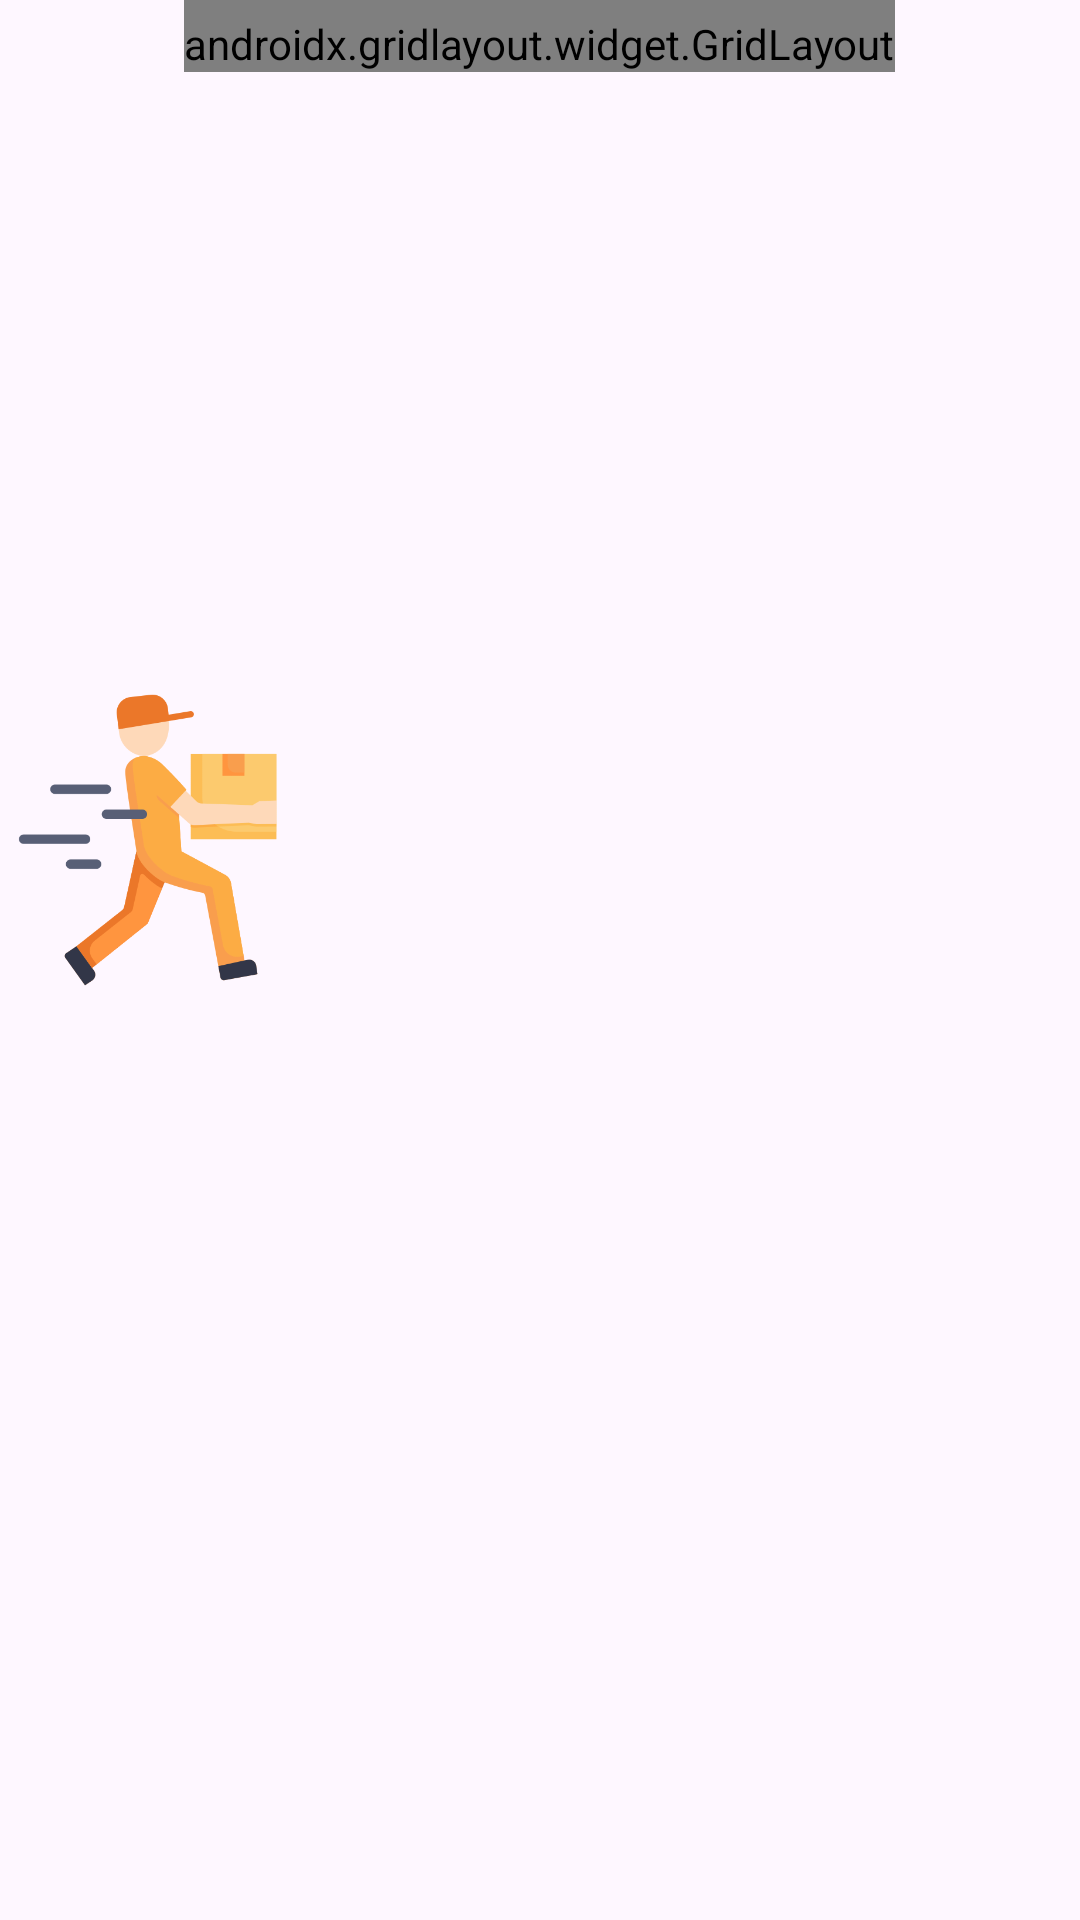

Where to tap for icons on this 1080*1920 app screen, as (x,y):
kurer 3ua6qtgc59g: (148,839)
